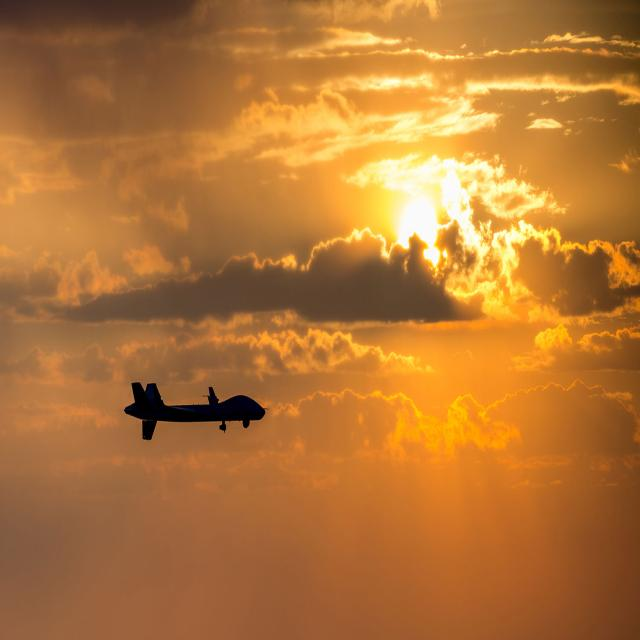MIL_Plane: (123, 381, 270, 441)
